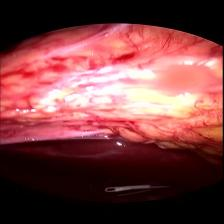Specimen Bag: (103, 181, 176, 195)
